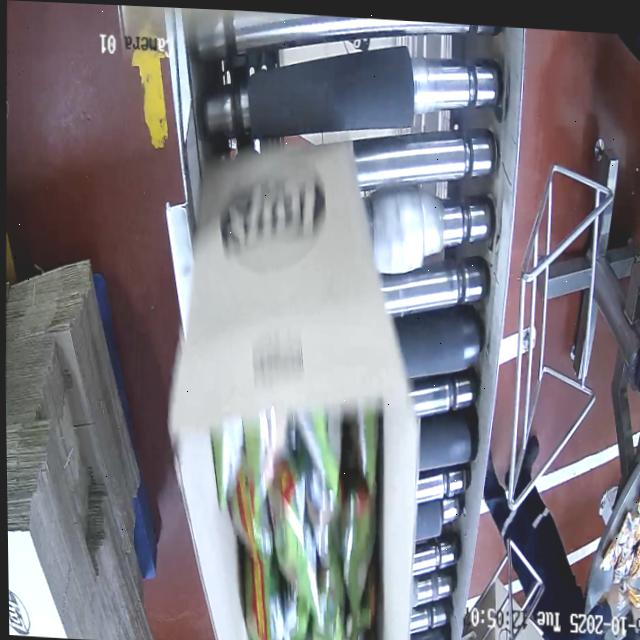YOGURT_HERB: (215, 397, 383, 640)
